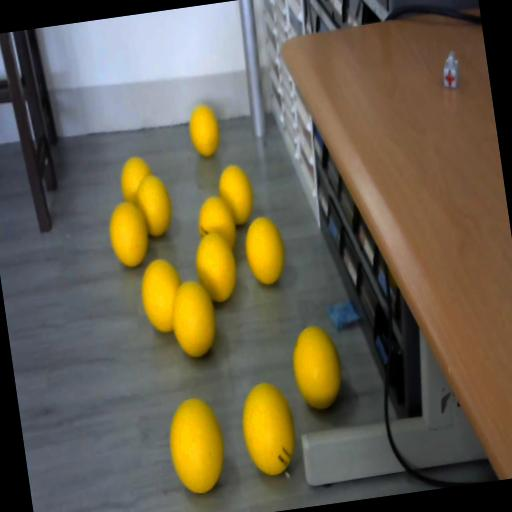FUEL: (164, 395, 229, 495), (236, 379, 300, 478), (286, 320, 346, 412), (166, 278, 221, 362), (190, 228, 242, 306), (241, 213, 289, 287), (106, 200, 152, 268), (132, 170, 176, 240), (216, 162, 256, 226), (186, 102, 222, 158)
